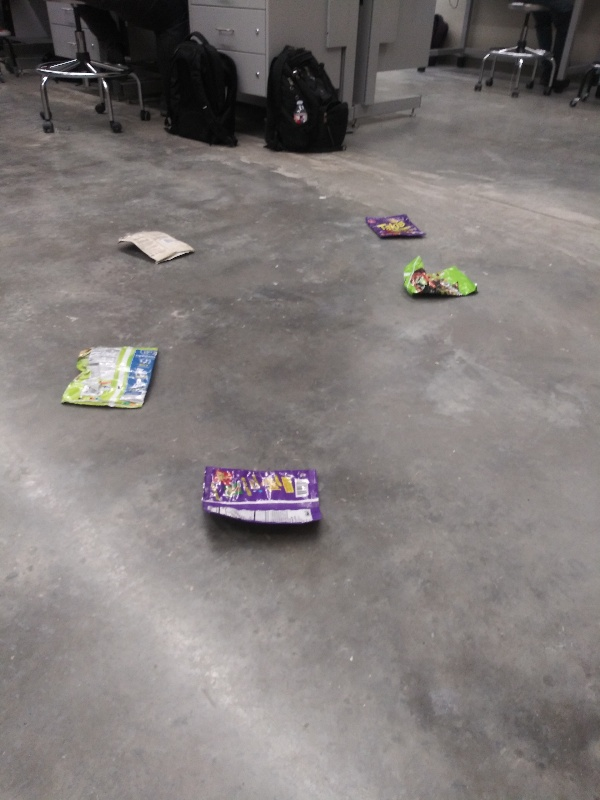bag: (202, 464, 327, 535), (57, 339, 164, 413), (400, 253, 486, 301), (114, 226, 200, 268), (359, 211, 429, 244)
bottle: (291, 96, 309, 124)
